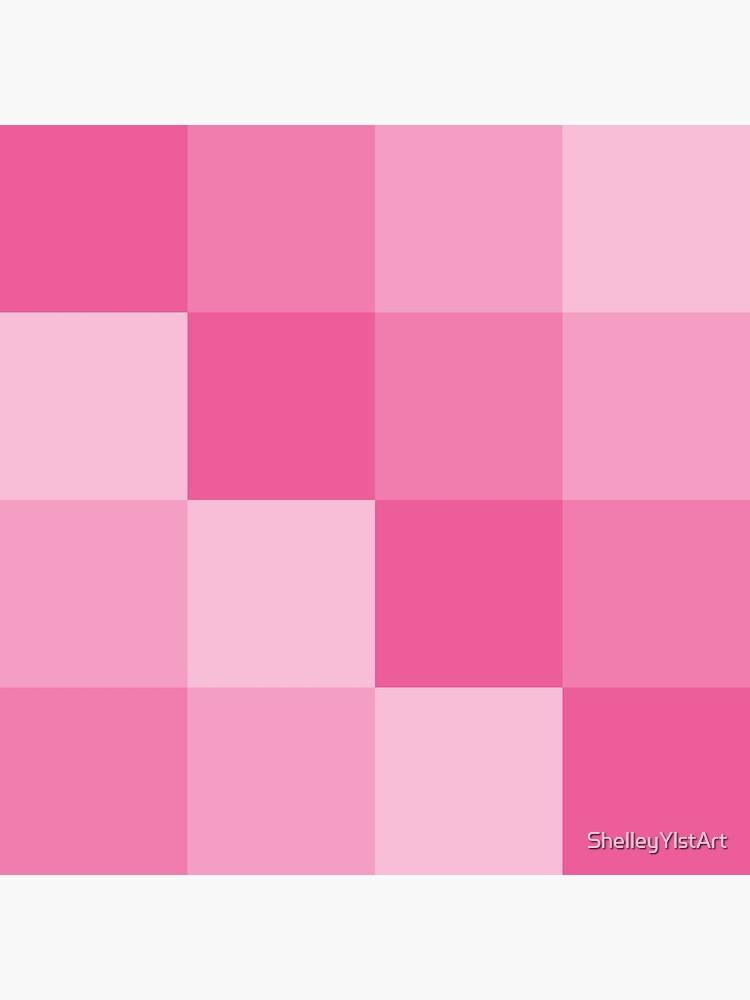pink_zone: (550, 670, 750, 890), (370, 482, 568, 695), (180, 308, 385, 510), (562, 490, 750, 708), (185, 115, 382, 322), (0, 118, 192, 320), (0, 500, 187, 690), (0, 690, 182, 874), (377, 316, 564, 493)
